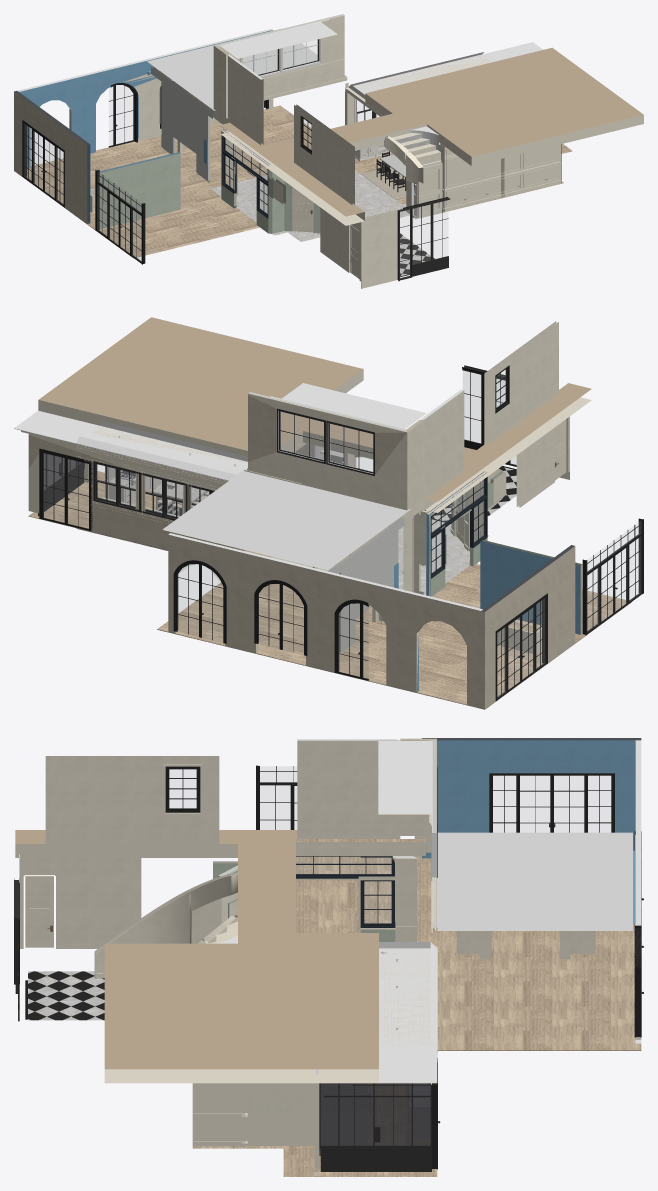
The model's file is kitchen-bbec4cf571b4.glb.
3 renders of one model, top to bottom at view 1: azimuth 30°, elevation 25°; view 2: azimuth 150°, elevation 25°; view 3: azimuth 270°, elevation 25°, orthographic. The views are drawn at different scales.
Visible parts, largest first — view 1: kitchen-look-2575515a05775d9e, kitchen-look-3b0077416469e01b, kitchen-look-969b861f9850351e, kitchen-look-b19b106fc304963c, kitchen-19647d6da46c2b80, kitchen-look-039192b0560cfac3, kitchen-look-698abdfdc6fb970d, kitchen-look-4a969f5cc1ae3dfe, kitchen-look-746250f96522f643, kitchen-look-55ff1dfd7b659ec1, kitchen-look-08d72923bcfd3529, kitchen-look-245f595ae2832e16 (+29 smaller); view 2: kitchen-look-2575515a05775d9e, kitchen-look-969b861f9850351e, kitchen-look-3b0077416469e01b, kitchen-look-4a969f5cc1ae3dfe, kitchen-look-245f595ae2832e16, kitchen-look-039192b0560cfac3, kitchen-look-746250f96522f643, kitchen-bfb9fa537cd11d1d, kitchen-look-08d72923bcfd3529, kitchen-look-b57b1dfcc6ff1bca, kitchen-look-7f59123d155b94ce, kitchen-look-9fbf623a647a21dd (+30 smaller); view 3: kitchen-look-2575515a05775d9e, kitchen-look-3b0077416469e01b, kitchen-look-4a969f5cc1ae3dfe, kitchen-look-746250f96522f643, kitchen-look-039192b0560cfac3, kitchen-look-7f59123d155b94ce, kitchen-look-85f0fd939e0fcc78, kitchen-look-9fbf623a647a21dd, kitchen-look-cbd4bf73d9724a66, kitchen-9a0e9ee9b2a451d7, kitchen-look-9d91b47435c6fb33, kitchen-5b6bbac285e58726 (+25 smaller).
Boxes of the visible parts, box(x1,y1,x2,y2) form: kitchen-look-2575515a05775d9e: box(221, 47, 643, 225); kitchen-look-3b0077416469e01b: box(14, 105, 572, 257); kitchen-look-969b861f9850351e: box(17, 28, 273, 168); kitchen-look-b19b106fc304963c: box(99, 152, 180, 229); kitchen-19647d6da46c2b80: box(444, 144, 560, 207); kitchen-look-039192b0560cfac3: box(14, 91, 90, 223); kitchen-look-698abdfdc6fb970d: box(397, 197, 450, 281); kitchen-look-4a969f5cc1ae3dfe: box(147, 28, 346, 110); kitchen-look-746250f96522f643: box(294, 104, 354, 205); kitchen-look-55ff1dfd7b659ec1: box(151, 67, 214, 180); kitchen-look-08d72923bcfd3529: box(95, 169, 145, 264); kitchen-look-245f595ae2832e16: box(213, 14, 344, 108); kitchen-look-2575515a05775d9e: box(38, 317, 591, 512); kitchen-look-969b861f9850351e: box(168, 533, 482, 707); kitchen-look-3b0077416469e01b: box(28, 471, 631, 709); kitchen-look-4a969f5cc1ae3dfe: box(162, 470, 410, 570); kitchen-look-245f595ae2832e16: box(248, 392, 407, 510); kitchen-look-039192b0560cfac3: box(481, 545, 575, 708); kitchen-look-746250f96522f643: box(484, 321, 558, 445); kitchen-bfb9fa537cd11d1d: box(76, 444, 246, 551); kitchen-look-08d72923bcfd3529: box(582, 518, 643, 635); kitchen-look-b57b1dfcc6ff1bca: box(173, 560, 226, 643); kitchen-look-7f59123d155b94ce: box(418, 389, 464, 511); kitchen-look-9fbf623a647a21dd: box(495, 593, 547, 701); kitchen-look-2575515a05775d9e: box(15, 830, 378, 1083); kitchen-look-3b0077416469e01b: box(283, 856, 641, 1176); kitchen-look-4a969f5cc1ae3dfe: box(437, 832, 632, 930); kitchen-look-746250f96522f643: box(45, 756, 219, 843); kitchen-look-039192b0560cfac3: box(422, 738, 641, 858); kitchen-look-7f59123d155b94ce: box(297, 739, 400, 838); kitchen-look-85f0fd939e0fcc78: box(19, 858, 141, 948); kitchen-look-9fbf623a647a21dd: box(489, 773, 614, 832); kitchen-look-cbd4bf73d9724a66: box(319, 1083, 430, 1155); kitchen-9a0e9ee9b2a451d7: box(379, 948, 436, 1045); kitchen-look-9d91b47435c6fb33: box(378, 741, 431, 814); kitchen-5b6bbac285e58726: box(246, 1083, 314, 1147).
Bounding box in the file's own units: 20.89 × 6.36 × 16.86.
67 materials, 13 textured.
